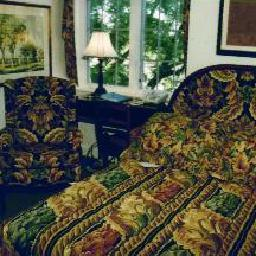Cama: (5, 115, 244, 250)
Ventana: (85, 3, 184, 88)
